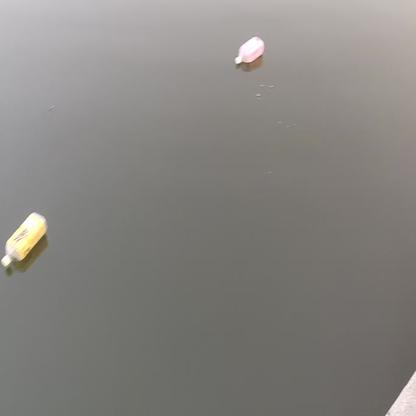plastic bottle: (2, 213, 47, 266), (235, 35, 265, 63)
